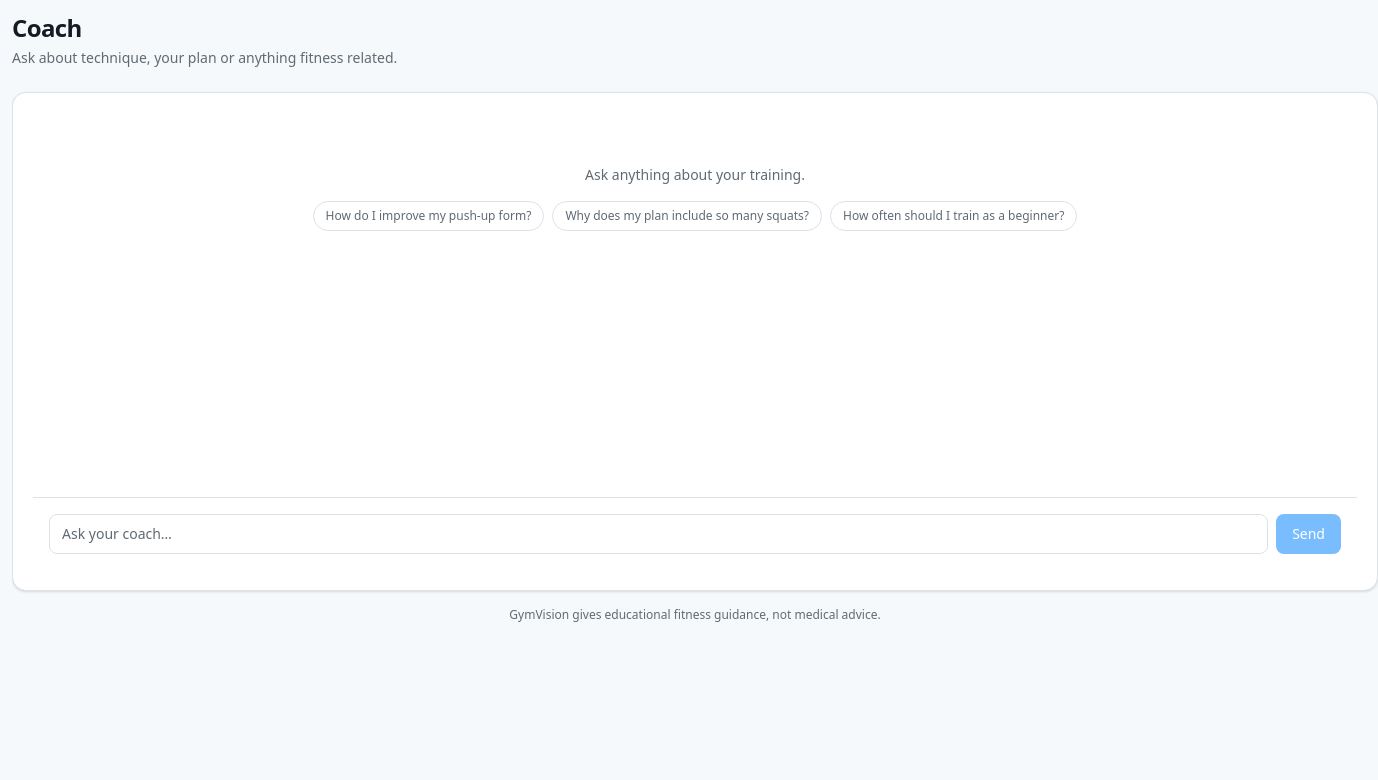
Scenario: the coach › reports when the coach is unavailable
Type "Hello" into the field named "message" at (659, 534), box [49,514,1268,554]
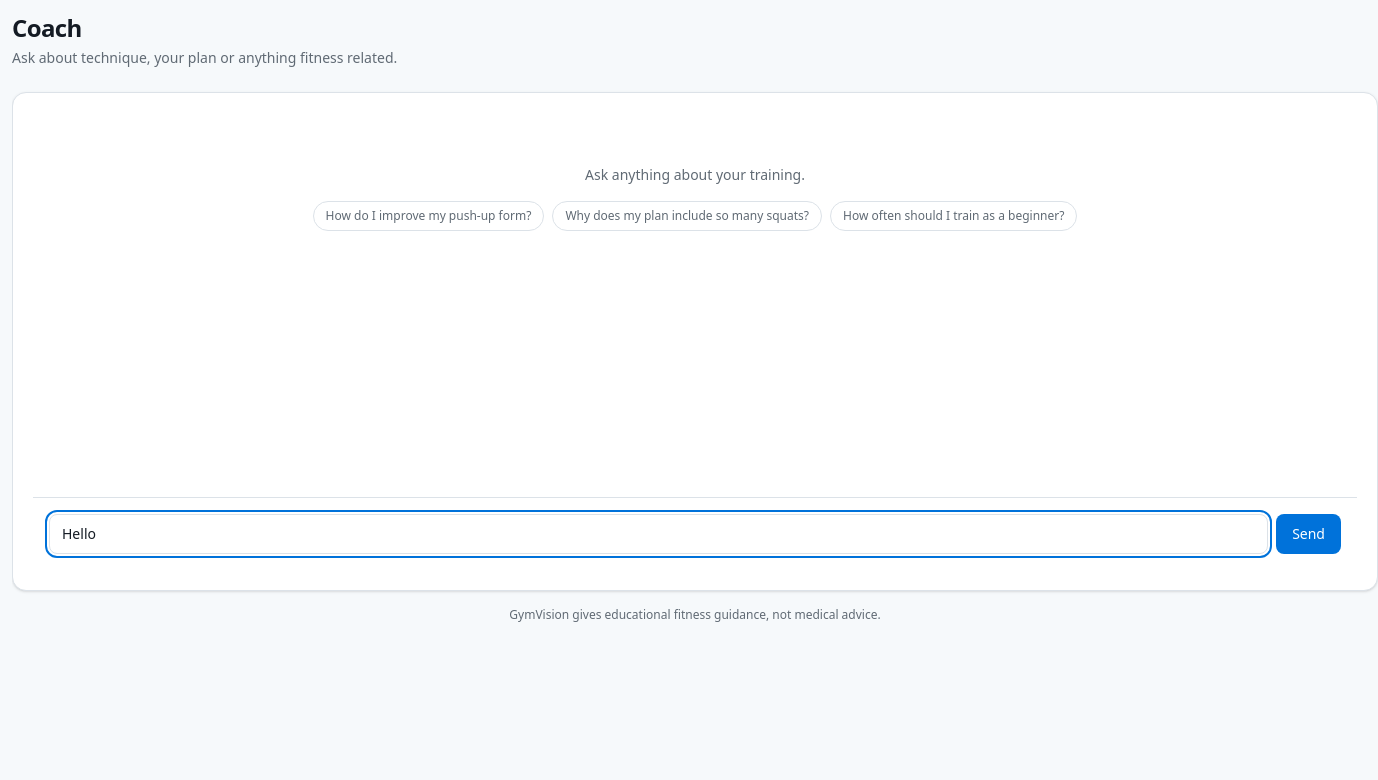
Click the button "Send" at (1309, 534), box [1276,514,1341,554]
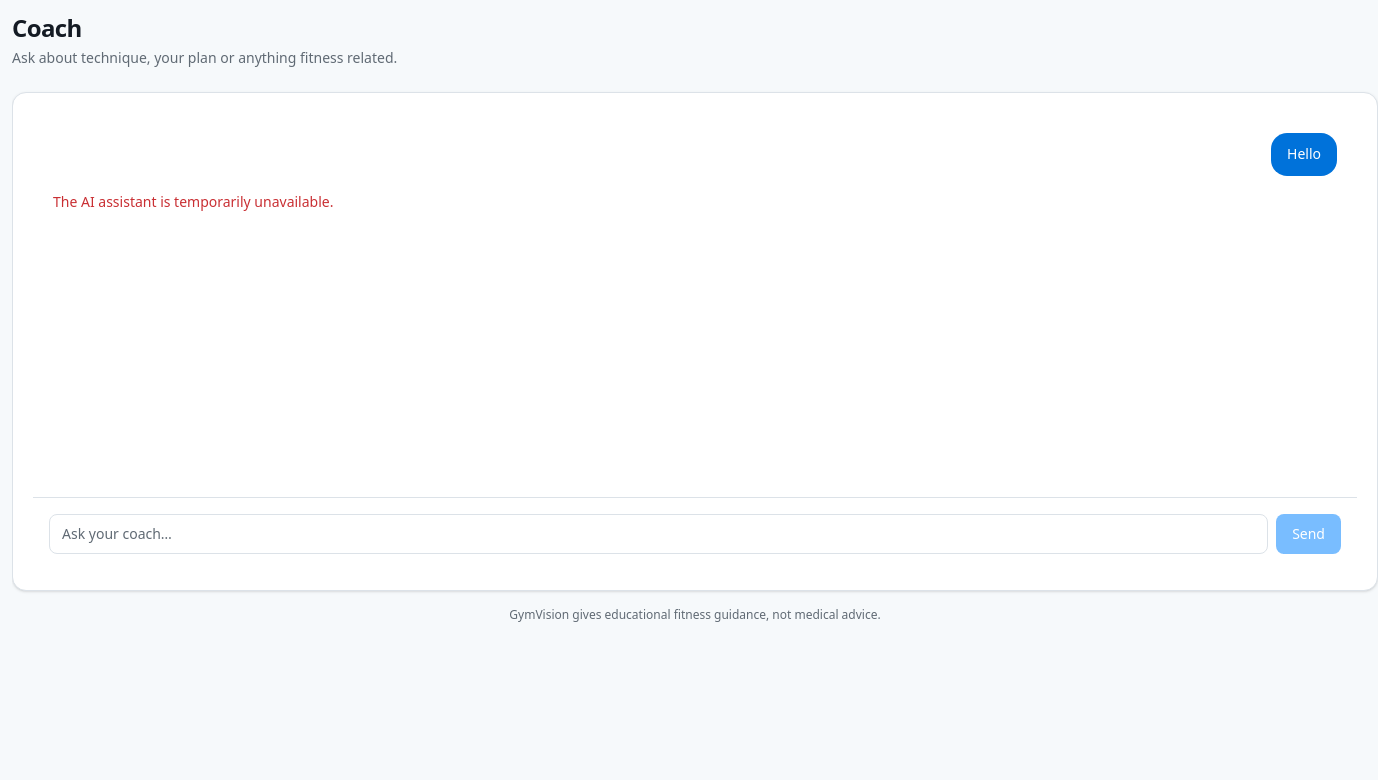
Expected: the message shows "unavailable", [53,192,333,211]
